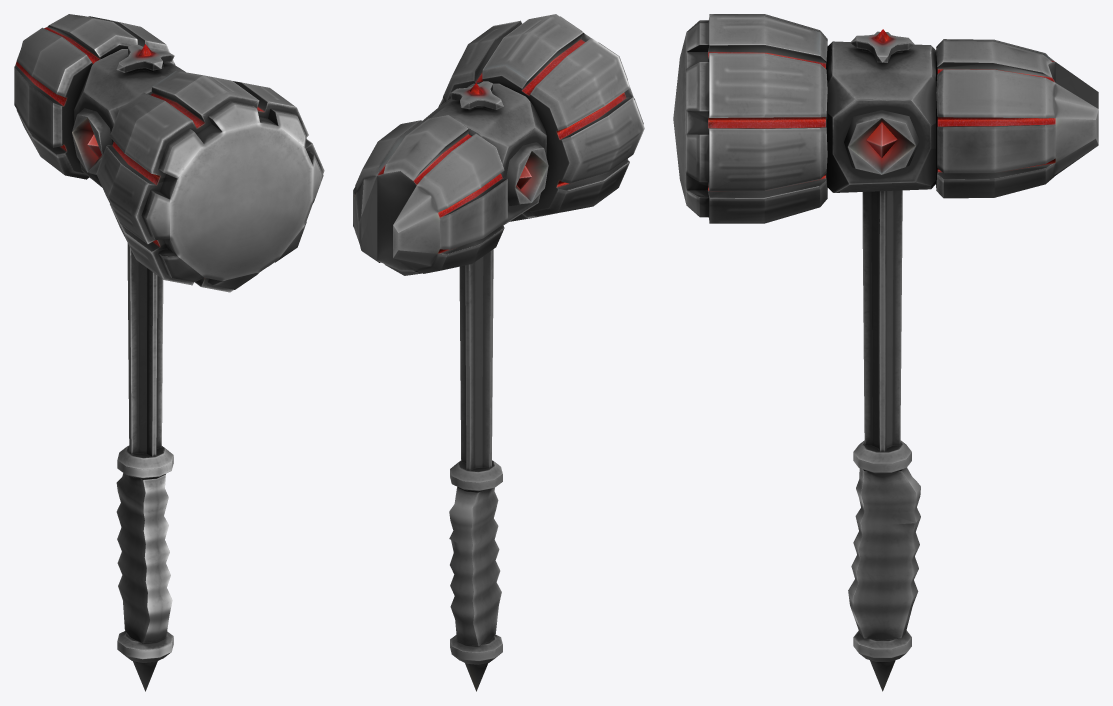
File: Po_a26DgQB8TozC1pc0vQvhboKKxS9ZZ.glb
3 renders of one model, left to right at view 1: azimuth 30°, elevation 25°; view 2: azimuth 150°, elevation 25°; view 3: azimuth 270°, elevation 25°, orthographic. The views are drawn at different scales.
Visible parts, largest first — view 1: Cylinder.002; view 2: Cylinder.002; view 3: Cylinder.002.
Part boxes in pixels (bbox=[...]): Cylinder.002: bbox=[14, 14, 324, 691]; Cylinder.002: bbox=[353, 14, 644, 691]; Cylinder.002: bbox=[673, 14, 1098, 691].
Bounding box in the file's own units: 2.22 × 7.41 × 4.24.
Materials: 1 (1 with a texture image).
